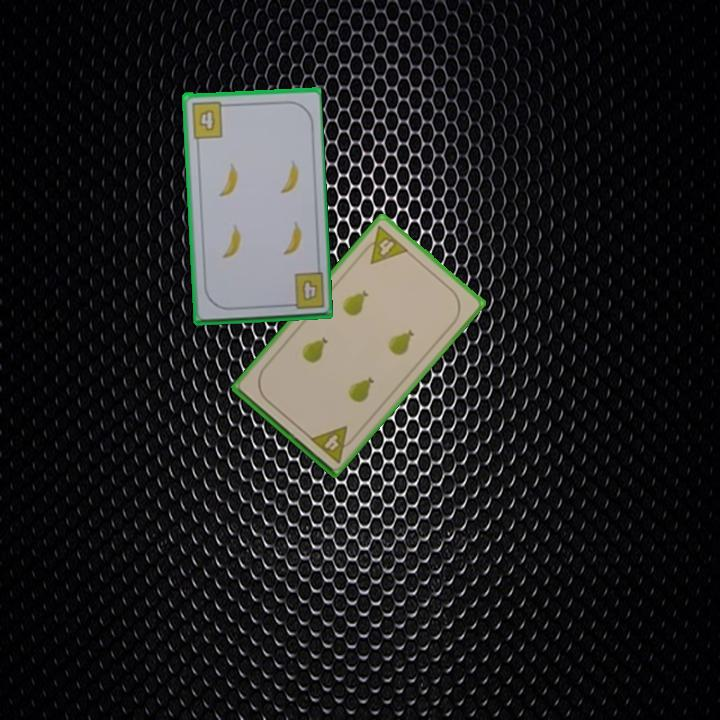4b: (188, 97, 231, 141), (298, 276, 320, 303)
4p: (357, 222, 411, 267), (306, 422, 359, 466)
